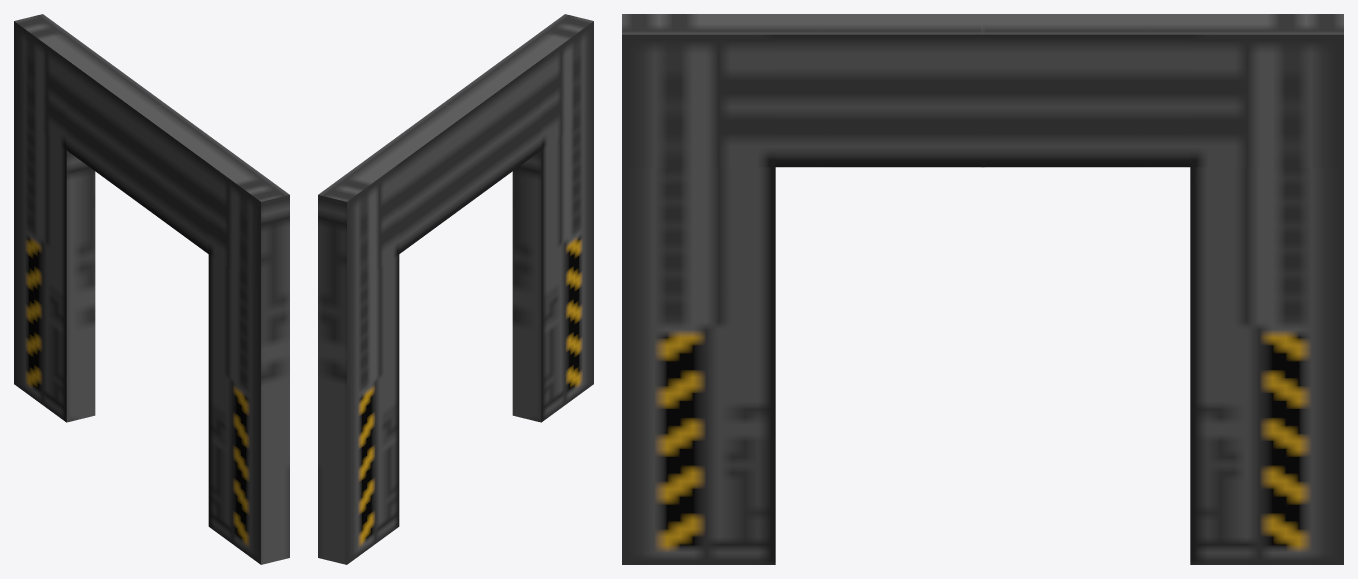
The model's file is DoorFrame.fbx.
The picture shows the model from 3 angles, left to right: view 1: azimuth 30°, elevation 25°; view 2: azimuth 150°, elevation 25°; view 3: azimuth 270°, elevation 25°; orthographic projection. The views are drawn at different scales.
Visible parts, largest first — view 1: Cube; view 2: Cube; view 3: Cube.
Boxes of the visible parts, x1,y1,x2,y2 form: Cube: (14, 14, 289, 564); Cube: (318, 14, 593, 564); Cube: (622, 14, 1343, 564).
Bounding box in the file's own units: 15.24 × 183 × 226.
1 material, 1 textured.
